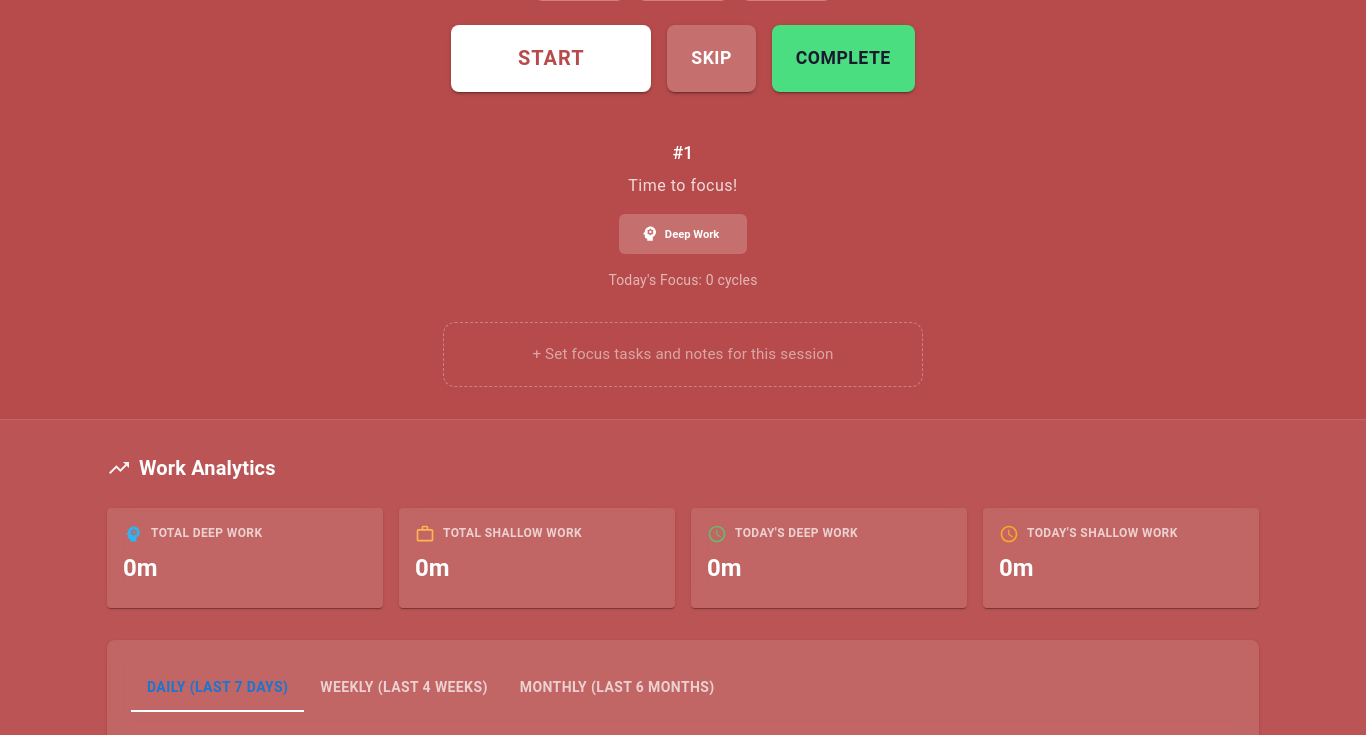
Test: PomodoroPanel Component › saves pomodoro text/notes when Enter is pressed without needing Save button
(page scrolled)
// Click to enter task/notes editing mode
Click the text "+ Set focus tasks and notes for this session" at [683, 354], box 532,345 -> 834,363
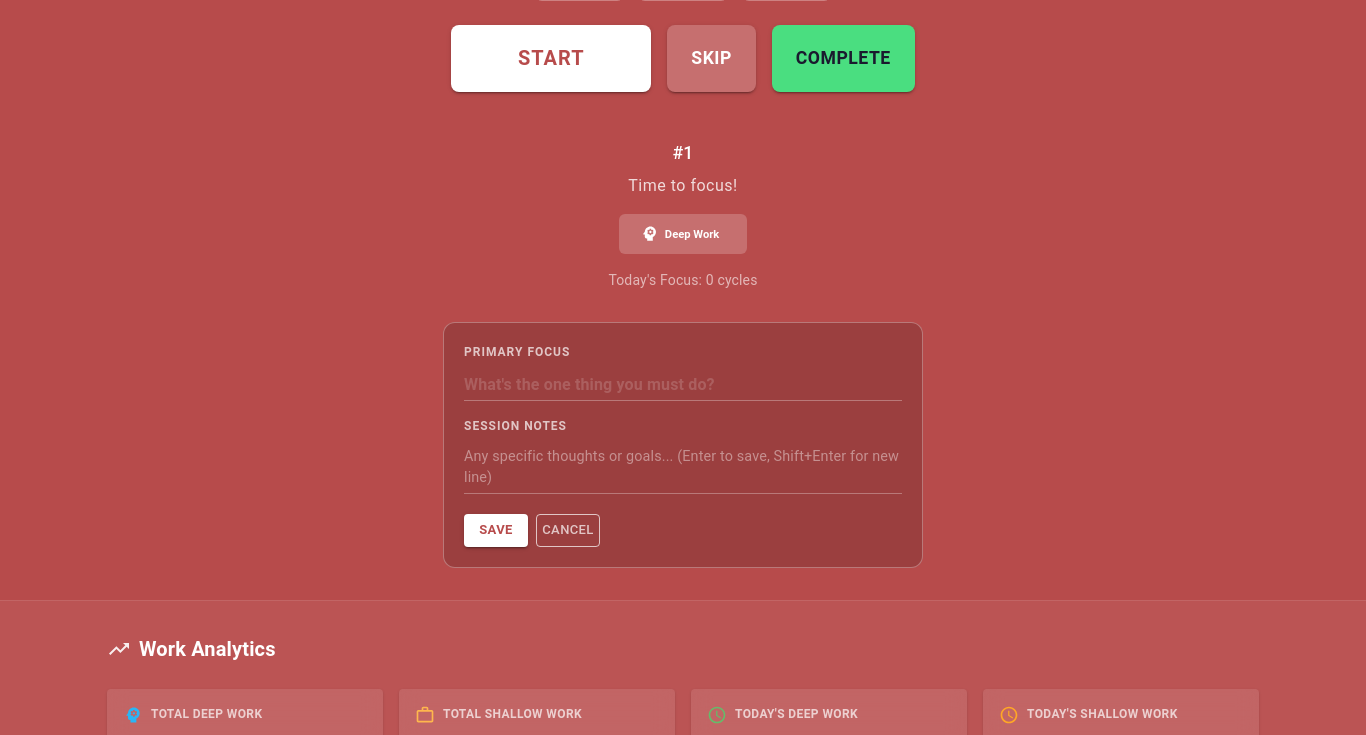
Check: the button "Save" is shown, box 464,514 -> 528,547
// Edit session notes
Replace the text in the text box with placeholder "Any specific thoughts or goals" with "Deep focus on algorithm" at [683, 468], box 464,447 -> 902,489
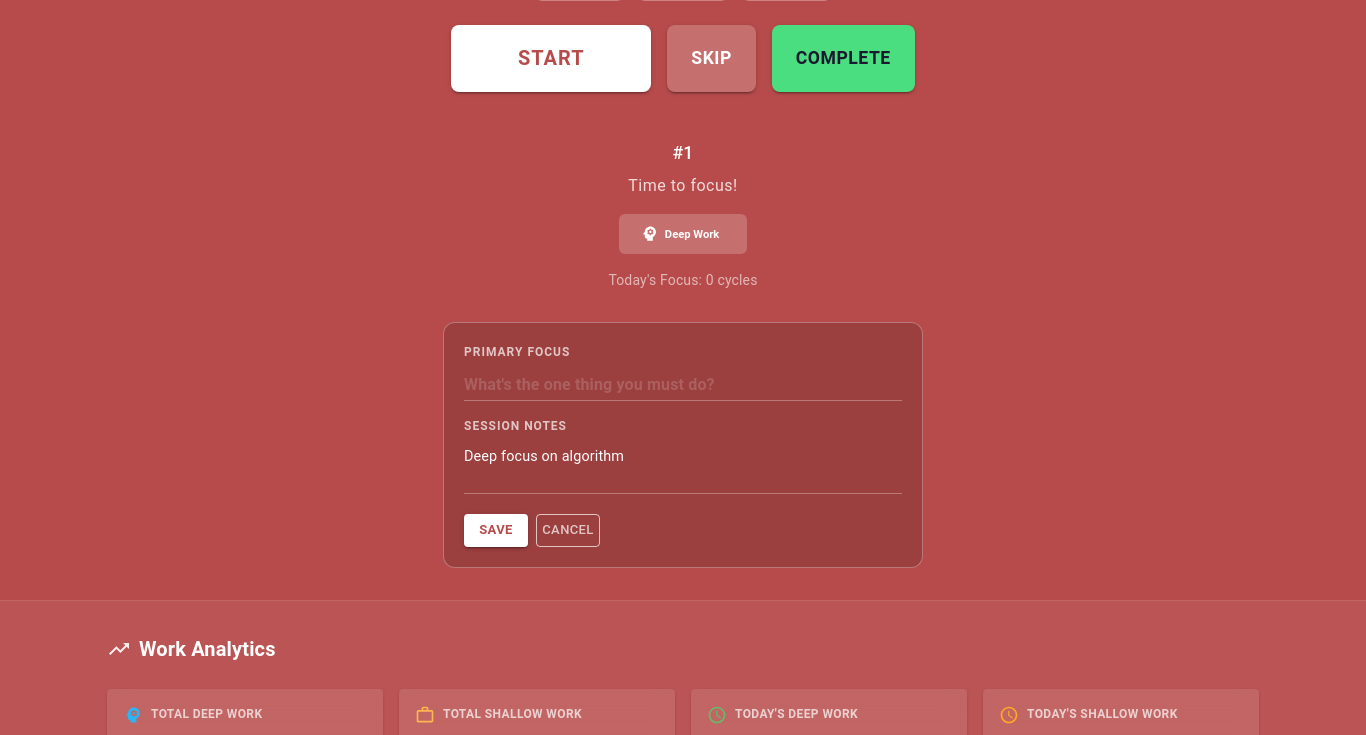
// Press Enter (without shift)
Press Enter in the text box with placeholder "Any specific thoughts or goals", box 464,447 -> 902,489
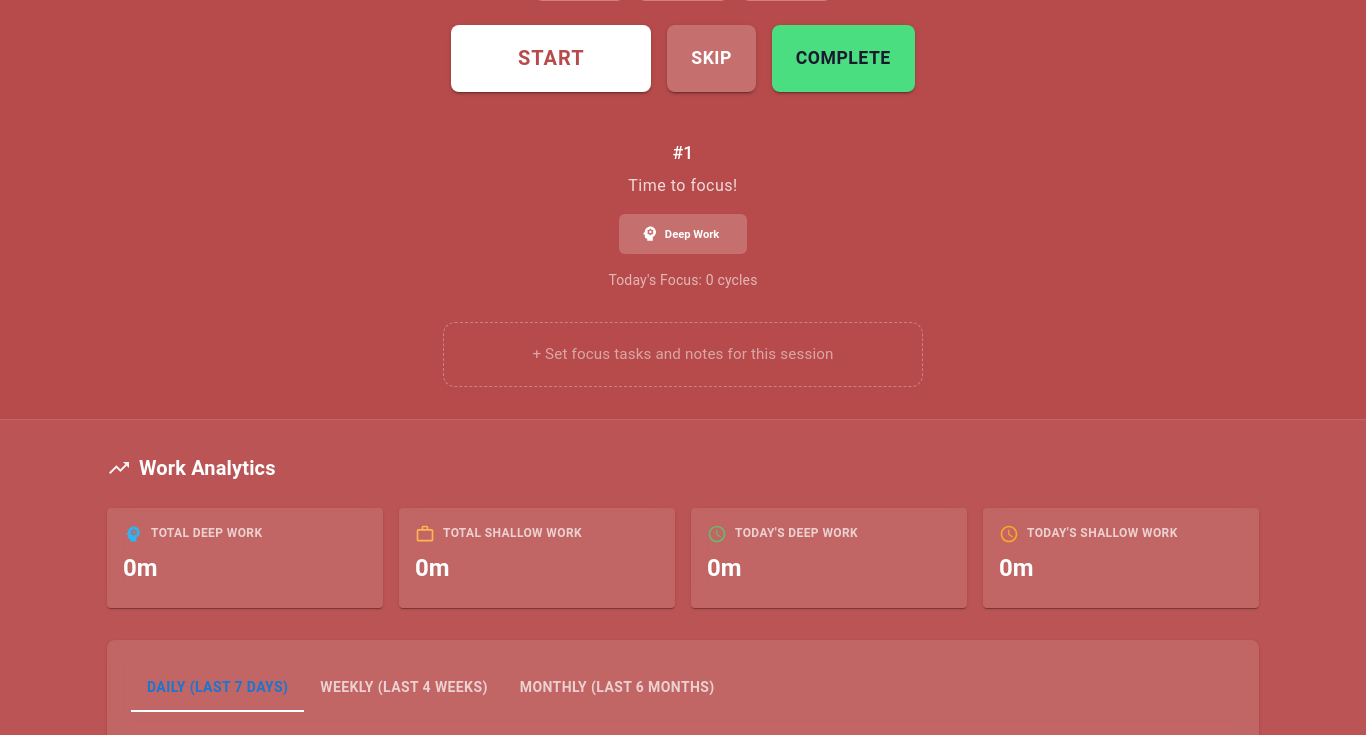
Check: the button "Save" is gone
